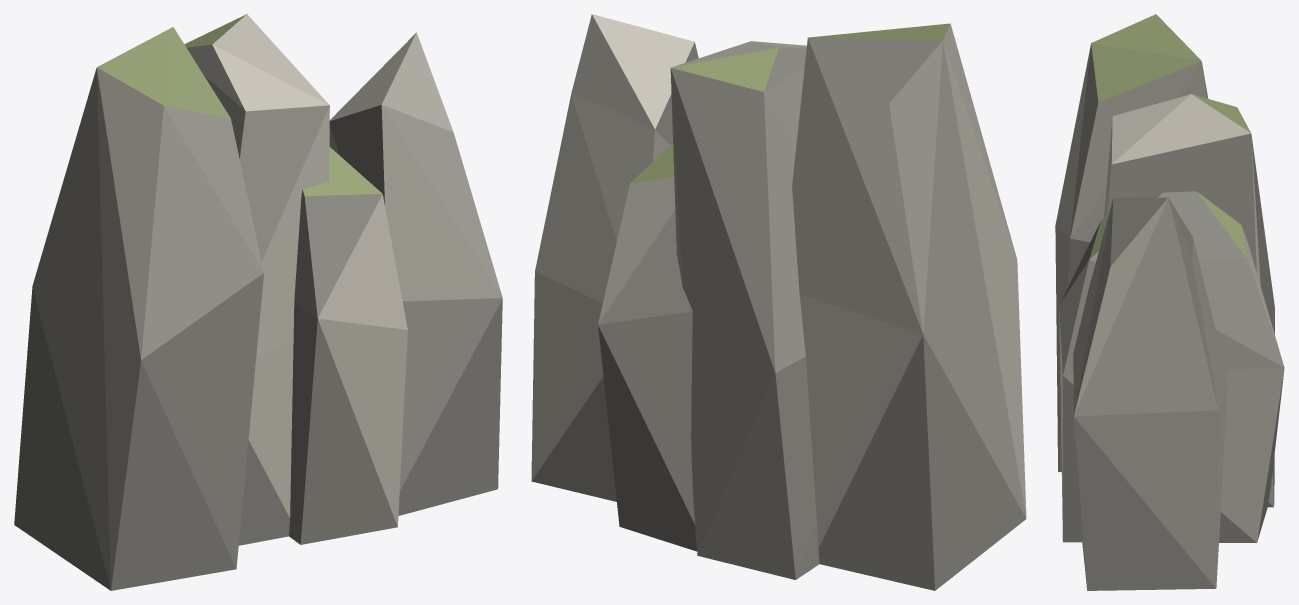
File: Cliff_Rock_2.glb
3 views of the same model, side by side, from view 1: azimuth 30°, elevation 25°; view 2: azimuth 150°, elevation 25°; view 3: azimuth 270°, elevation 25° (orthographic). The views are drawn at different scales.
Visible parts, largest first — view 1: Cliff_Rock_2; view 2: Cliff_Rock_2; view 3: Cliff_Rock_2.
Boxes of the visible parts, <box> form: Cliff_Rock_2: <box>14,14,502,590</box>; Cliff_Rock_2: <box>531,14,1026,590</box>; Cliff_Rock_2: <box>1055,14,1284,590</box>.
Bounding box in the file's own units: 1.85 × 2.14 × 1.05.
